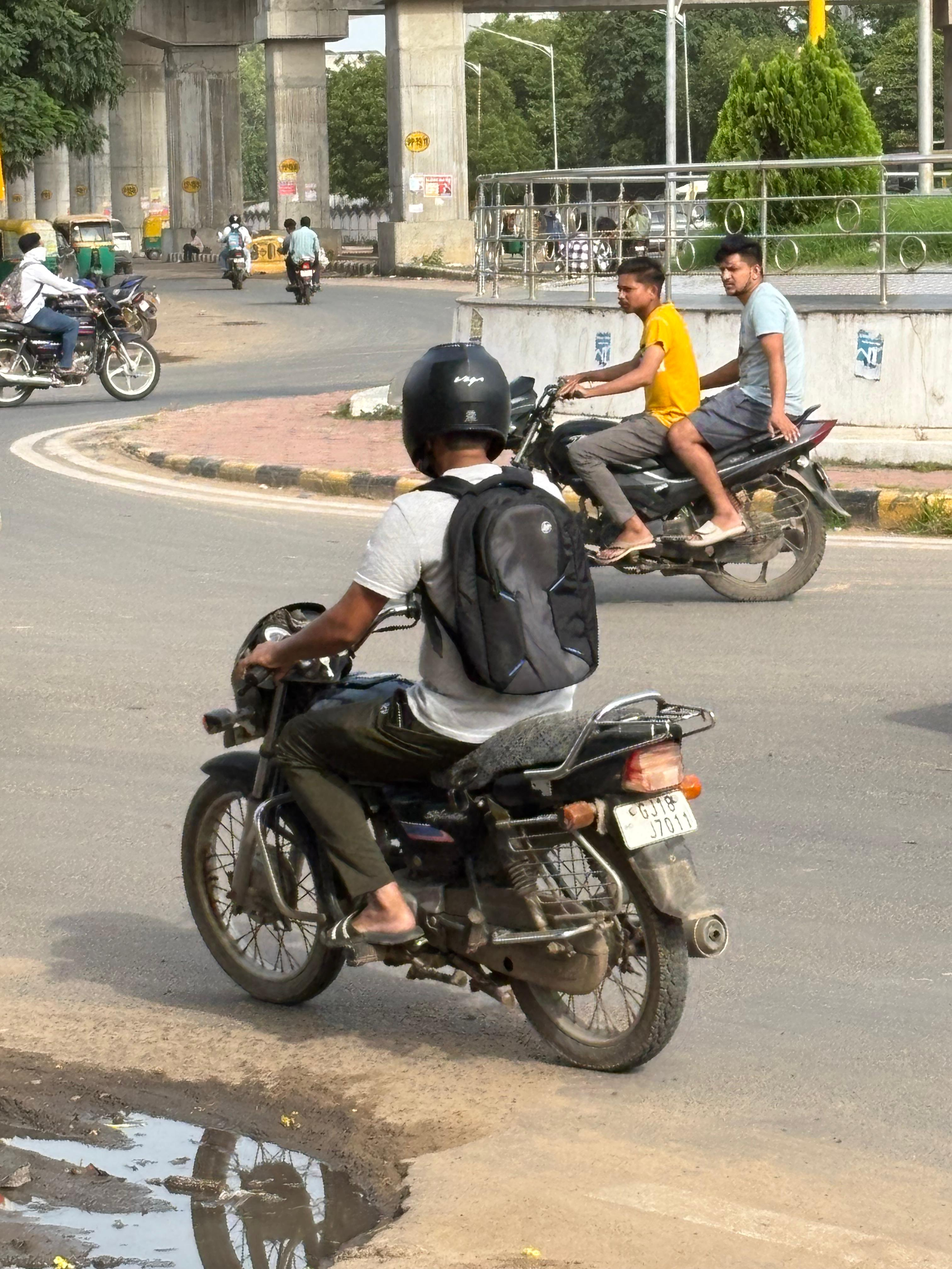BikeWithRider: (162, 330, 742, 1083), (487, 226, 861, 611), (0, 219, 172, 417), (275, 210, 330, 308), (211, 210, 260, 292)
Helmet: (388, 329, 524, 487)
NoHelmet: (605, 248, 675, 322), (705, 229, 773, 304)
